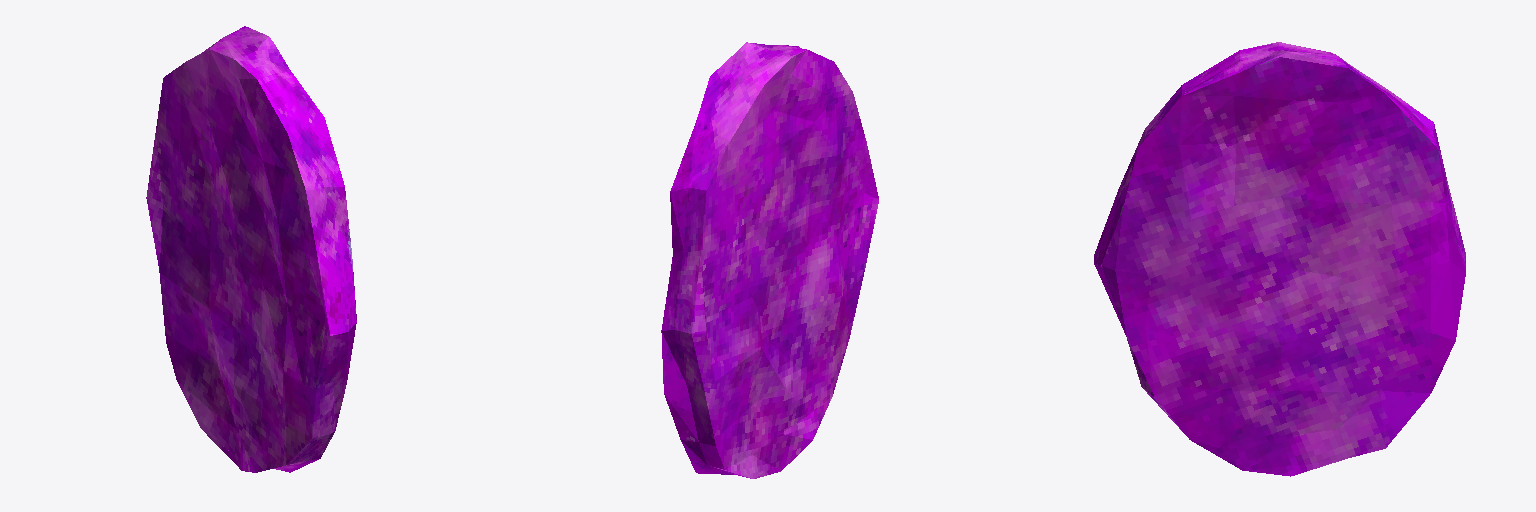
The picture shows the model from 3 angles: view 1: azimuth 30°, elevation 25°; view 2: azimuth 150°, elevation 25°; view 3: azimuth 270°, elevation 25°; orthographic projection.
Parts seen in each view (by area): view 1: Portal; view 2: Portal; view 3: Portal.
Part boxes in pixels (left/top/right/bottom): Portal: left=146, top=26, right=356, bottom=472; Portal: left=661, top=42, right=878, bottom=478; Portal: left=1094, top=42, right=1465, bottom=476.
Size of the model in its own units: 1.48 by 12.71 by 10.09.
1 materials, 1 textured.